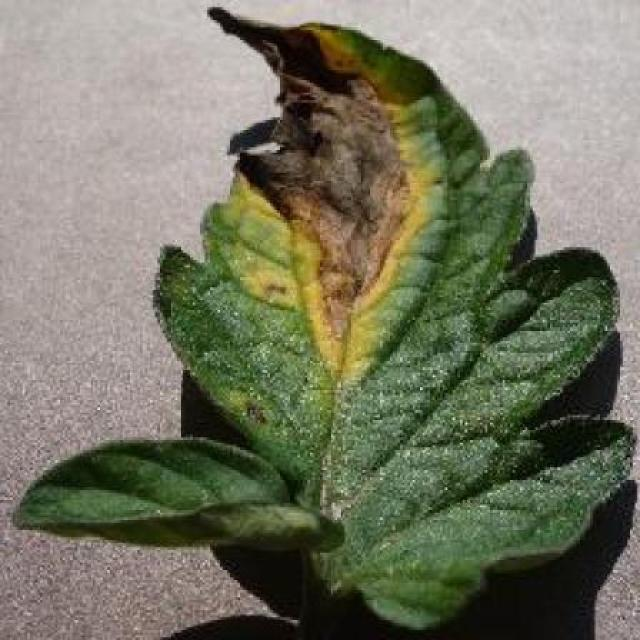Early Blight: (148, 10, 640, 640)
